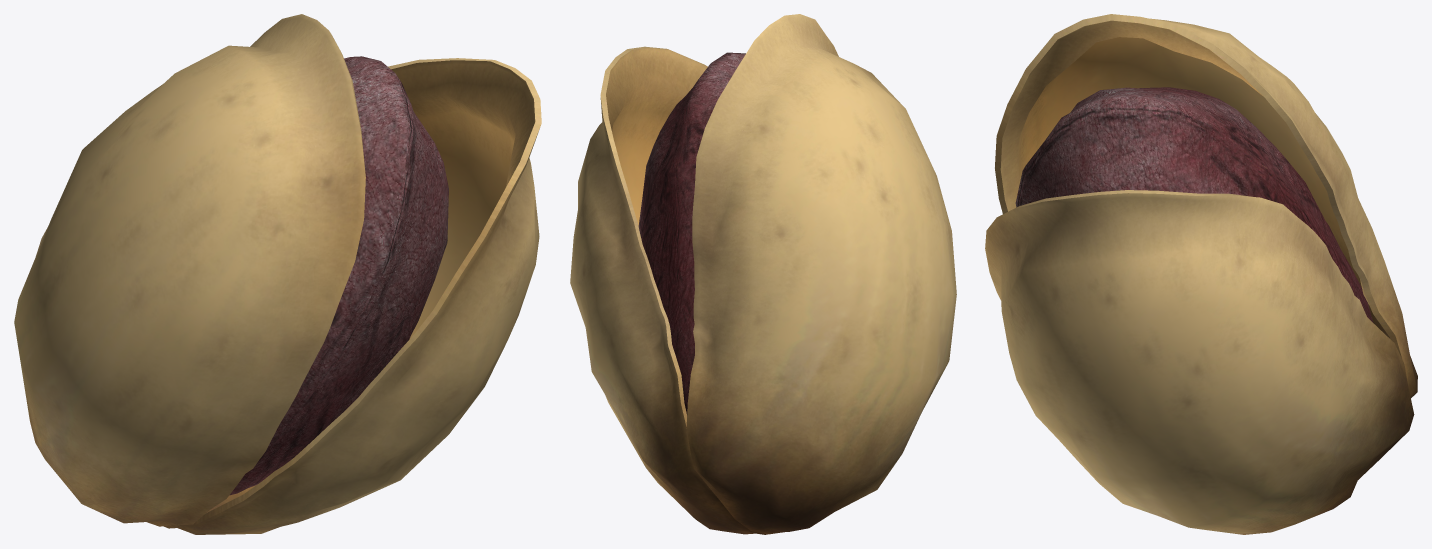
The model's file is pistachio.obj.
3 views of the same model, side by side, from view 1: azimuth 30°, elevation 25°; view 2: azimuth 150°, elevation 25°; view 3: azimuth 270°, elevation 25° (orthographic). The views are drawn at different scales.
Parts seen in each view (by area): view 1: pistachio:polySurface3 pistachio:polySurface4 pistachio1, pistachio:polySurface2 pistachio:polySurface3 pistachio1; view 2: pistachio:polySurface3 pistachio:polySurface4 pistachio1, pistachio:polySurface2 pistachio:polySurface3 pistachio1; view 3: pistachio:polySurface3 pistachio:polySurface4 pistachio1, pistachio:polySurface2 pistachio:polySurface3 pistachio1.
Boxes of the visible parts, x1=… form: pistachio:polySurface3 pistachio:polySurface4 pistachio1: x1=14, y1=14, x2=541, y2=534; pistachio:polySurface2 pistachio:polySurface3 pistachio1: x1=229, y1=56, x2=448, y2=495; pistachio:polySurface3 pistachio:polySurface4 pistachio1: x1=570, y1=14, x2=956, y2=534; pistachio:polySurface2 pistachio:polySurface3 pistachio1: x1=638, y1=52, x2=745, y2=414; pistachio:polySurface3 pistachio:polySurface4 pistachio1: x1=985, y1=14, x2=1417, y2=534; pistachio:polySurface2 pistachio:polySurface3 pistachio1: x1=1015, y1=87, x2=1373, y2=323.
Size of the model in its own units: 1.52 by 1.77 by 1.34.
